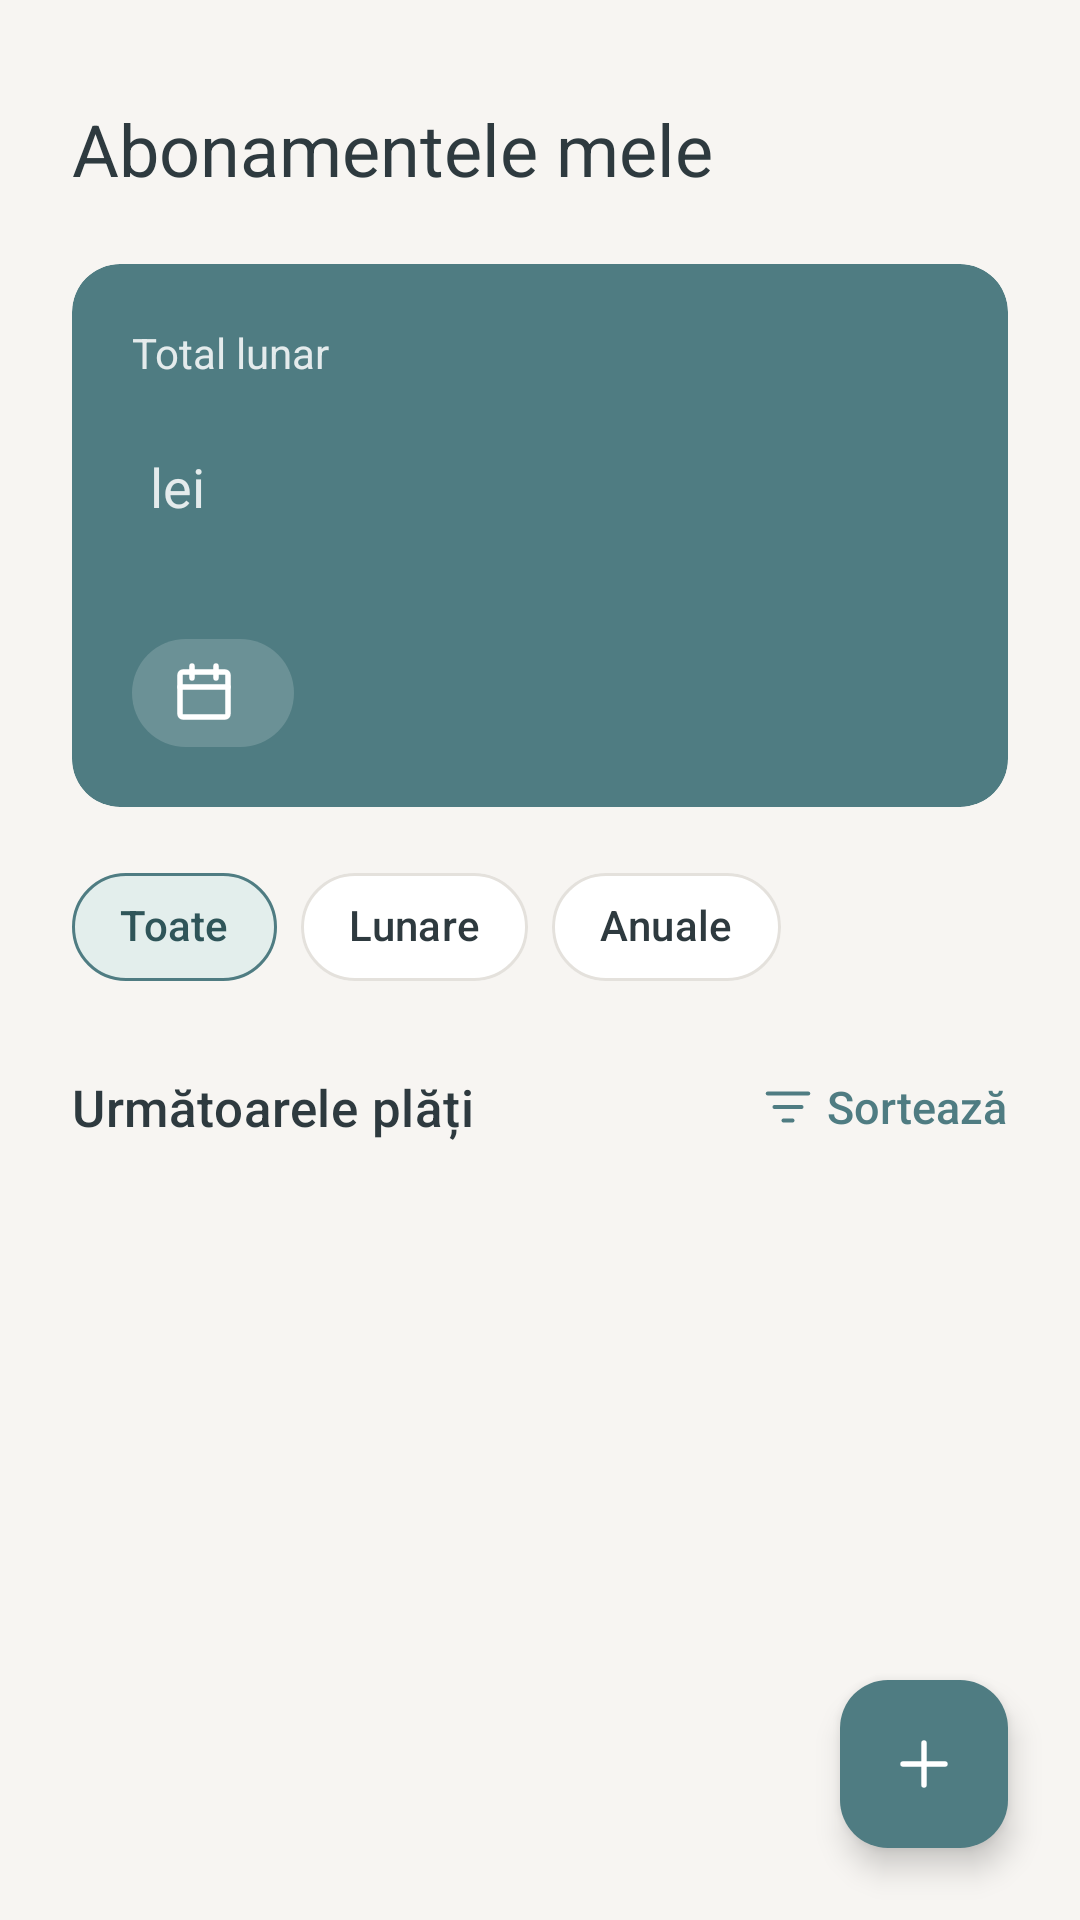

Named icons in this screenshot (1080px x 1920px) and their bounding boxes, (x1=x1, y1=y1, x2=x2, y2=y2):
Adaugă abonament: (x1=840, y1=1680, x2=1008, y2=1848)
